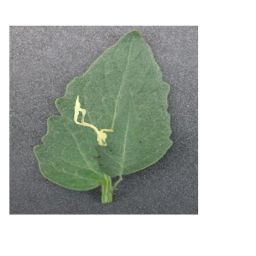liriomyza: (73, 94, 114, 148)
